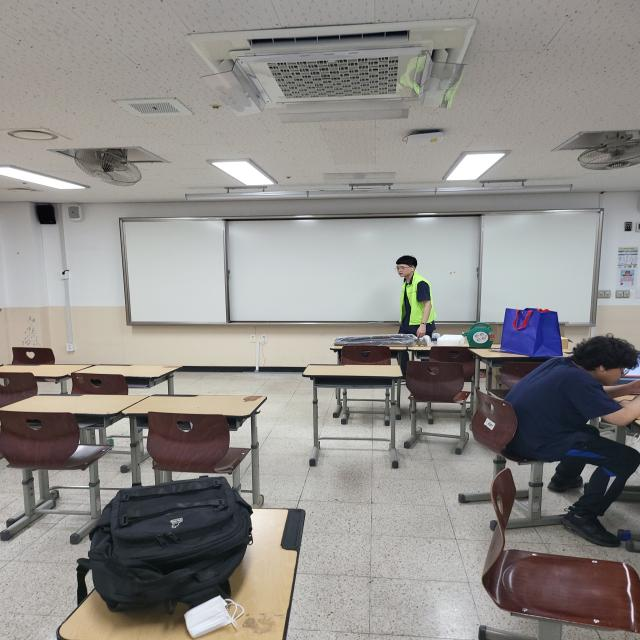weston_spy: (392, 270, 441, 338)
